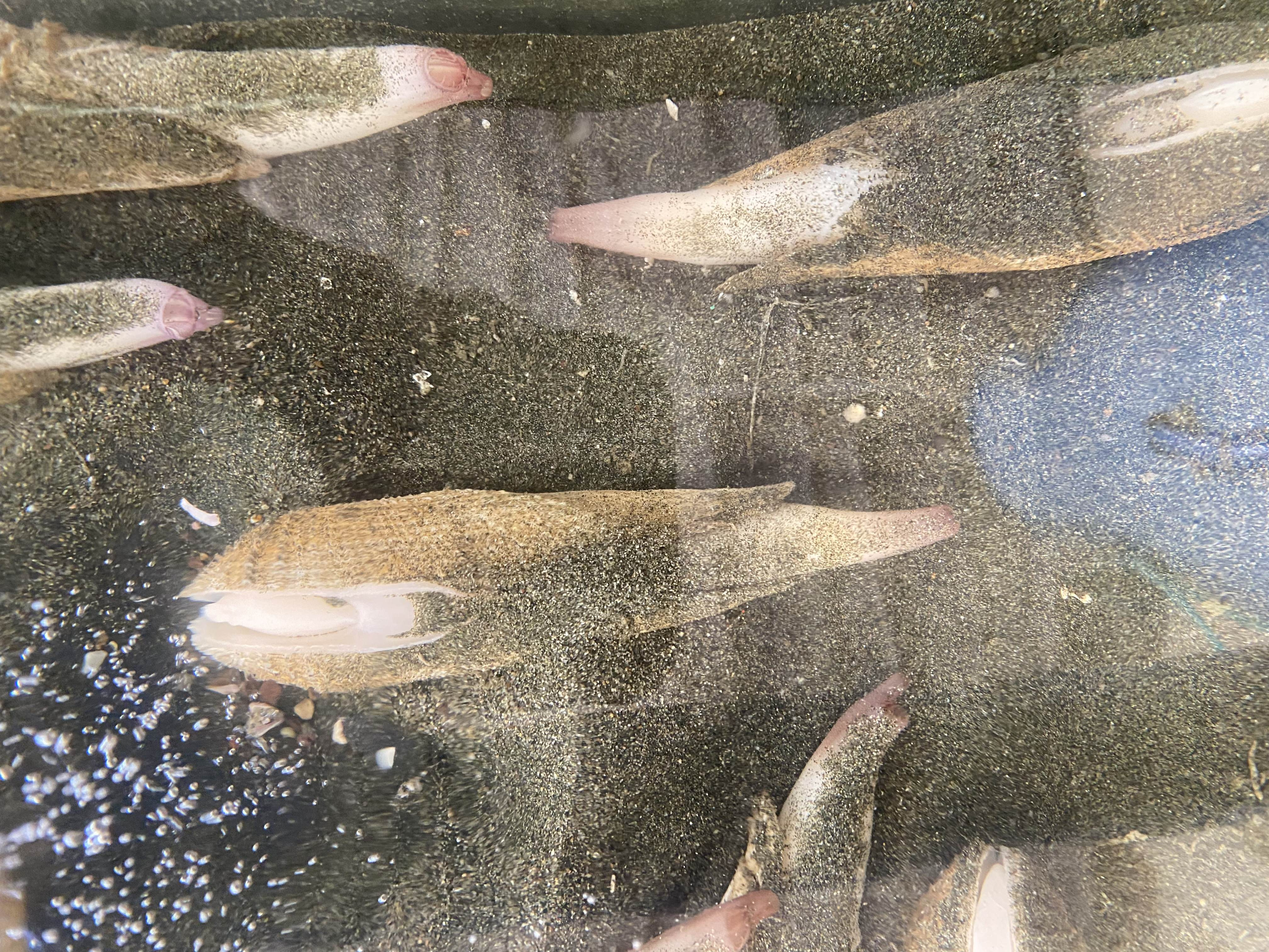Healthy: (549, 23, 1269, 290), (181, 483, 958, 691), (0, 21, 491, 201), (724, 674, 907, 952), (0, 279, 223, 372)
